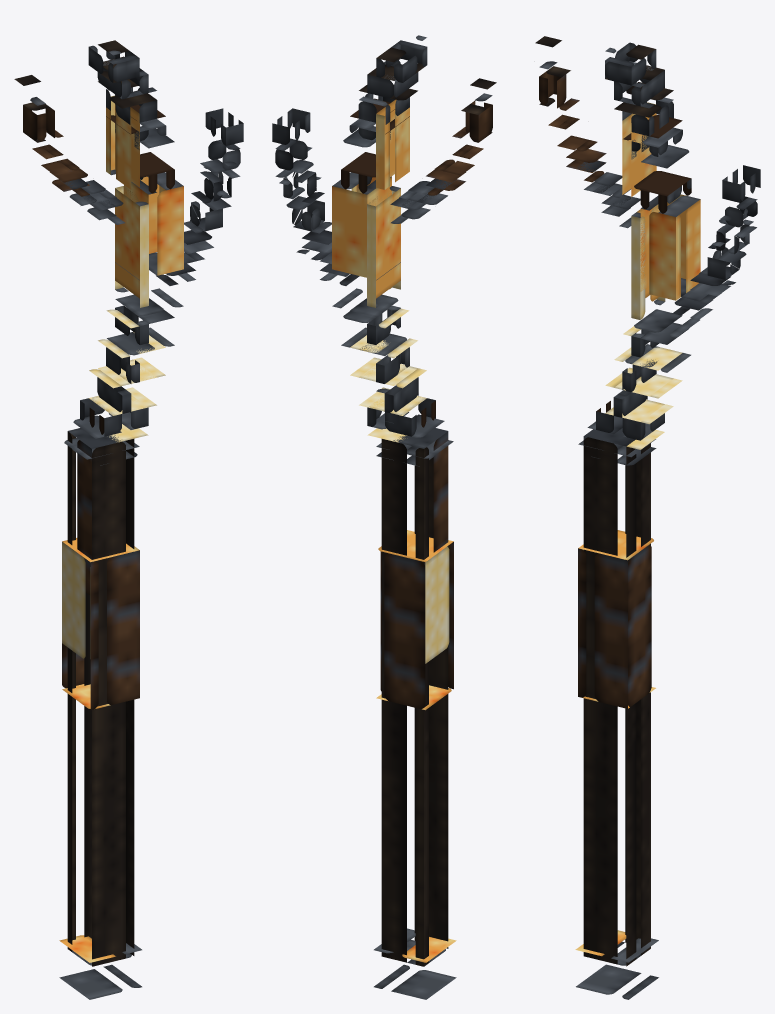
Rendered from charred_branch.obj.
3 renders of one model, left to right at view 1: azimuth 30°, elevation 25°; view 2: azimuth 150°, elevation 25°; view 3: azimuth 330°, elevation 25°, orthographic.
Parts seen in each view (by area): view 1: lit, fire; view 2: lit, fire; view 3: lit, fire.
Part boxes in pixels (x1,y1,x2,y2): lit: (14, 40, 240, 999); fire: (97, 95, 243, 413); lit: (275, 35, 496, 999); fire: (272, 99, 418, 423); lit: (535, 36, 757, 999); fire: (613, 102, 760, 417).
Size of the model in its own units: 0.75 by 3.23 by 0.1875.
